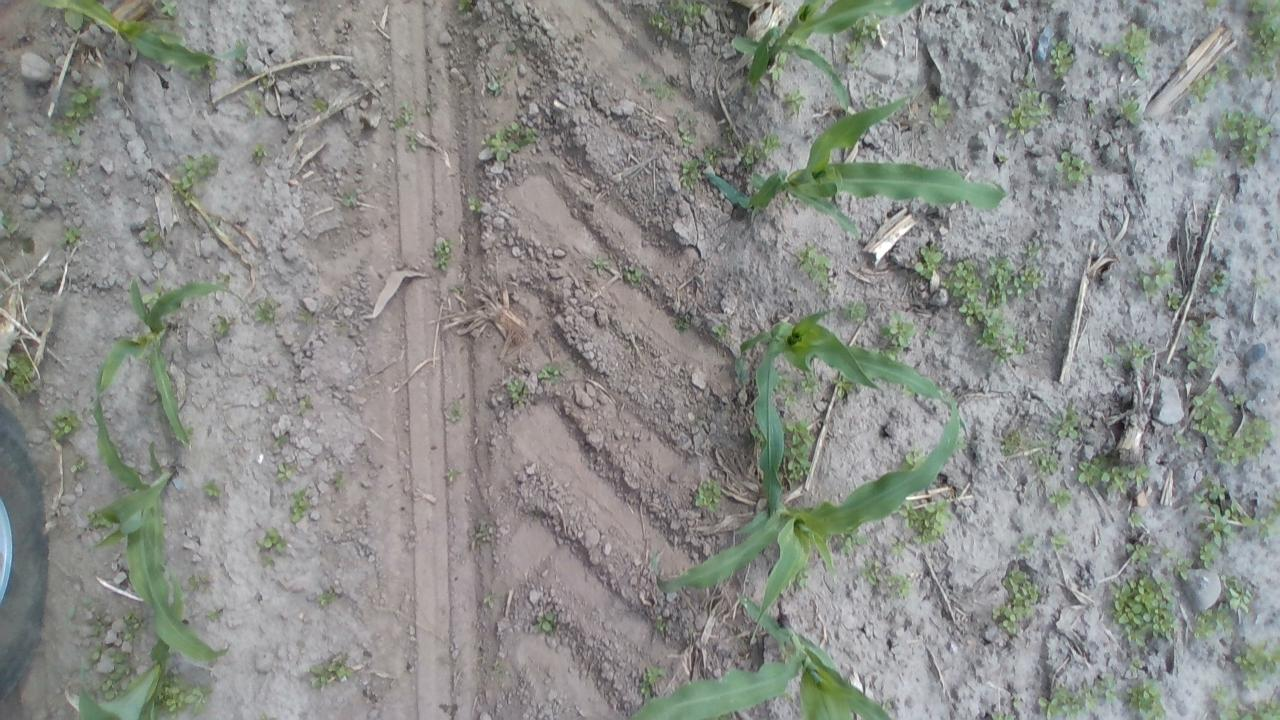Maize: (656, 400, 960, 644), (734, 307, 968, 507), (702, 92, 1004, 234), (94, 368, 234, 660), (630, 597, 894, 720), (103, 280, 246, 449), (730, 2, 921, 108), (76, 581, 184, 720), (43, 0, 222, 68)
Weeds: (946, 262, 1025, 358), (1189, 386, 1248, 465), (1112, 574, 1178, 638), (992, 566, 1040, 633), (1214, 108, 1270, 164), (1229, 491, 1280, 539), (1210, 685, 1279, 720), (1233, 641, 1279, 690), (1000, 89, 1050, 133), (1114, 22, 1148, 78), (901, 502, 950, 540), (1095, 452, 1151, 483), (1128, 677, 1166, 720), (1186, 322, 1220, 370), (1245, 14, 1280, 59), (1054, 681, 1101, 713), (61, 84, 105, 118), (795, 241, 828, 282), (1055, 150, 1089, 188), (878, 312, 912, 348), (1191, 608, 1233, 636), (1246, 413, 1274, 455), (1140, 262, 1176, 294), (1222, 574, 1252, 612), (1116, 94, 1144, 132), (990, 260, 1011, 310), (478, 136, 516, 162), (1048, 39, 1074, 74), (916, 246, 943, 278), (8, 355, 36, 385), (184, 153, 220, 175), (694, 480, 722, 508), (1012, 267, 1042, 293), (929, 95, 952, 128), (1123, 340, 1150, 368), (1208, 510, 1230, 544), (504, 375, 526, 408), (1126, 536, 1156, 560), (1128, 636, 1148, 672), (650, 608, 674, 638), (1204, 269, 1232, 294), (537, 360, 565, 385), (1049, 415, 1080, 437), (790, 448, 811, 480), (1197, 477, 1225, 501), (56, 409, 78, 439), (786, 419, 812, 444), (290, 488, 308, 524), (167, 674, 184, 712), (260, 530, 286, 554), (1190, 146, 1215, 170), (1166, 554, 1191, 578), (507, 122, 534, 144), (121, 612, 142, 640), (845, 41, 869, 65), (866, 560, 890, 584), (841, 298, 868, 319), (680, 157, 700, 185), (638, 665, 666, 685), (1038, 449, 1062, 472), (188, 686, 210, 711), (1102, 671, 1120, 701), (110, 650, 130, 676), (1196, 73, 1216, 99), (620, 263, 646, 283), (1050, 484, 1072, 507), (1038, 697, 1060, 720), (1004, 428, 1024, 453), (736, 143, 762, 162), (676, 0, 701, 19), (99, 674, 117, 700), (782, 92, 804, 112), (760, 132, 782, 152), (1128, 506, 1150, 526), (46, 117, 70, 135), (1082, 96, 1100, 120), (894, 573, 910, 600), (1250, 0, 1280, 14), (1078, 461, 1098, 482), (309, 664, 328, 686), (136, 224, 158, 243), (1194, 496, 1220, 512), (328, 660, 348, 680), (90, 638, 110, 658), (254, 302, 274, 322), (704, 319, 729, 335), (670, 313, 694, 329), (476, 524, 497, 542), (1200, 545, 1216, 568), (537, 612, 555, 632), (592, 256, 610, 276), (1167, 286, 1182, 310), (1098, 353, 1121, 368), (64, 10, 82, 29), (856, 21, 876, 38), (1227, 389, 1247, 406), (398, 103, 412, 127), (703, 144, 724, 160), (68, 88, 90, 103), (1052, 526, 1070, 544), (274, 430, 290, 450), (68, 123, 82, 145), (202, 478, 218, 497), (433, 238, 452, 254), (802, 376, 821, 392), (2, 218, 18, 236), (308, 96, 327, 111), (214, 316, 228, 336), (276, 463, 291, 481), (179, 171, 194, 189), (834, 382, 852, 397), (252, 144, 266, 163), (840, 534, 866, 544), (434, 253, 449, 270), (161, 0, 179, 14), (316, 589, 332, 604), (298, 394, 310, 414), (64, 224, 78, 241), (990, 711, 1016, 720), (328, 476, 343, 491), (1244, 62, 1260, 76), (898, 452, 922, 461), (488, 78, 501, 94), (1022, 240, 1034, 257), (62, 158, 73, 176), (484, 590, 496, 606), (1017, 538, 1030, 552), (90, 512, 101, 527), (447, 467, 457, 483), (206, 608, 222, 618), (1100, 42, 1110, 58), (448, 407, 459, 421), (924, 326, 934, 338), (998, 154, 1006, 163)
